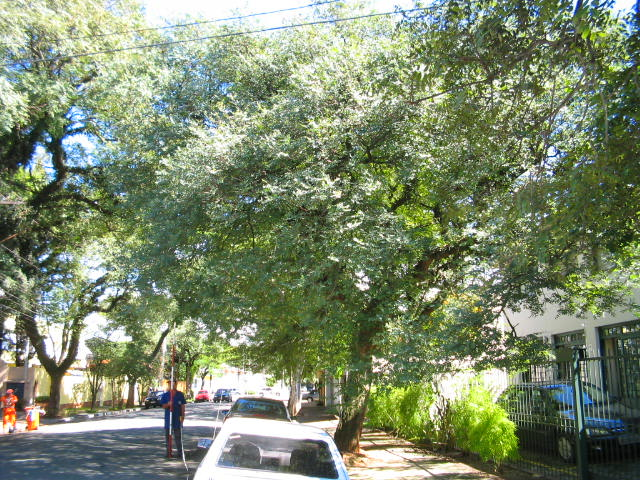crown: (129, 11, 636, 372)
stem: (328, 337, 391, 457)
stick: (163, 322, 181, 460)
tree: (127, 9, 637, 461)
